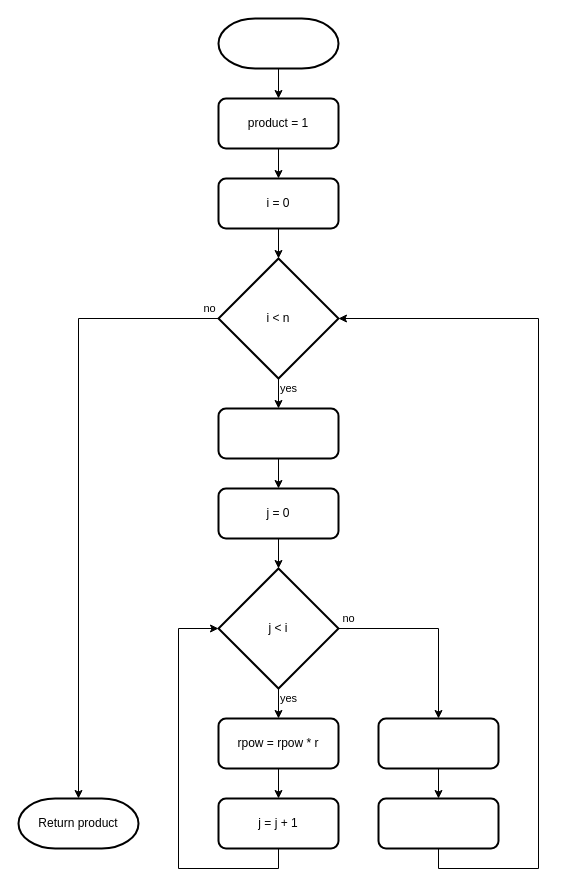
Some shapes in this 564 by 894 pixel diagram are drawn without their labels. Each missing label, with the centre of its shape:
"i = i + 1" belongs at pixel 438 823.
"product = product * a * rpow" belongs at pixel 438 743.
"rpow = 1" belongs at pixel 278 433.
"Start" belongs at pixel 278 43.
